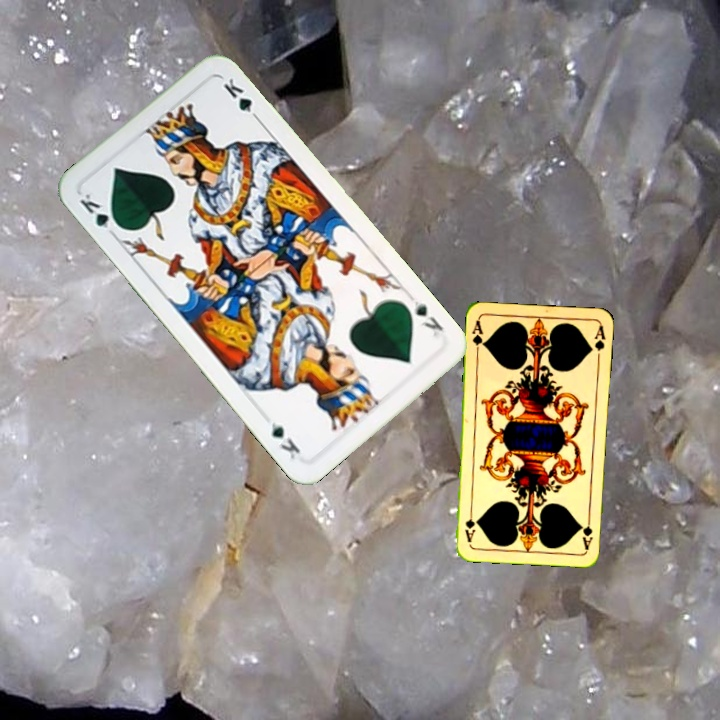GA: (468, 316, 487, 357), (578, 511, 595, 551)
GK: (76, 189, 125, 240), (406, 292, 446, 340)
